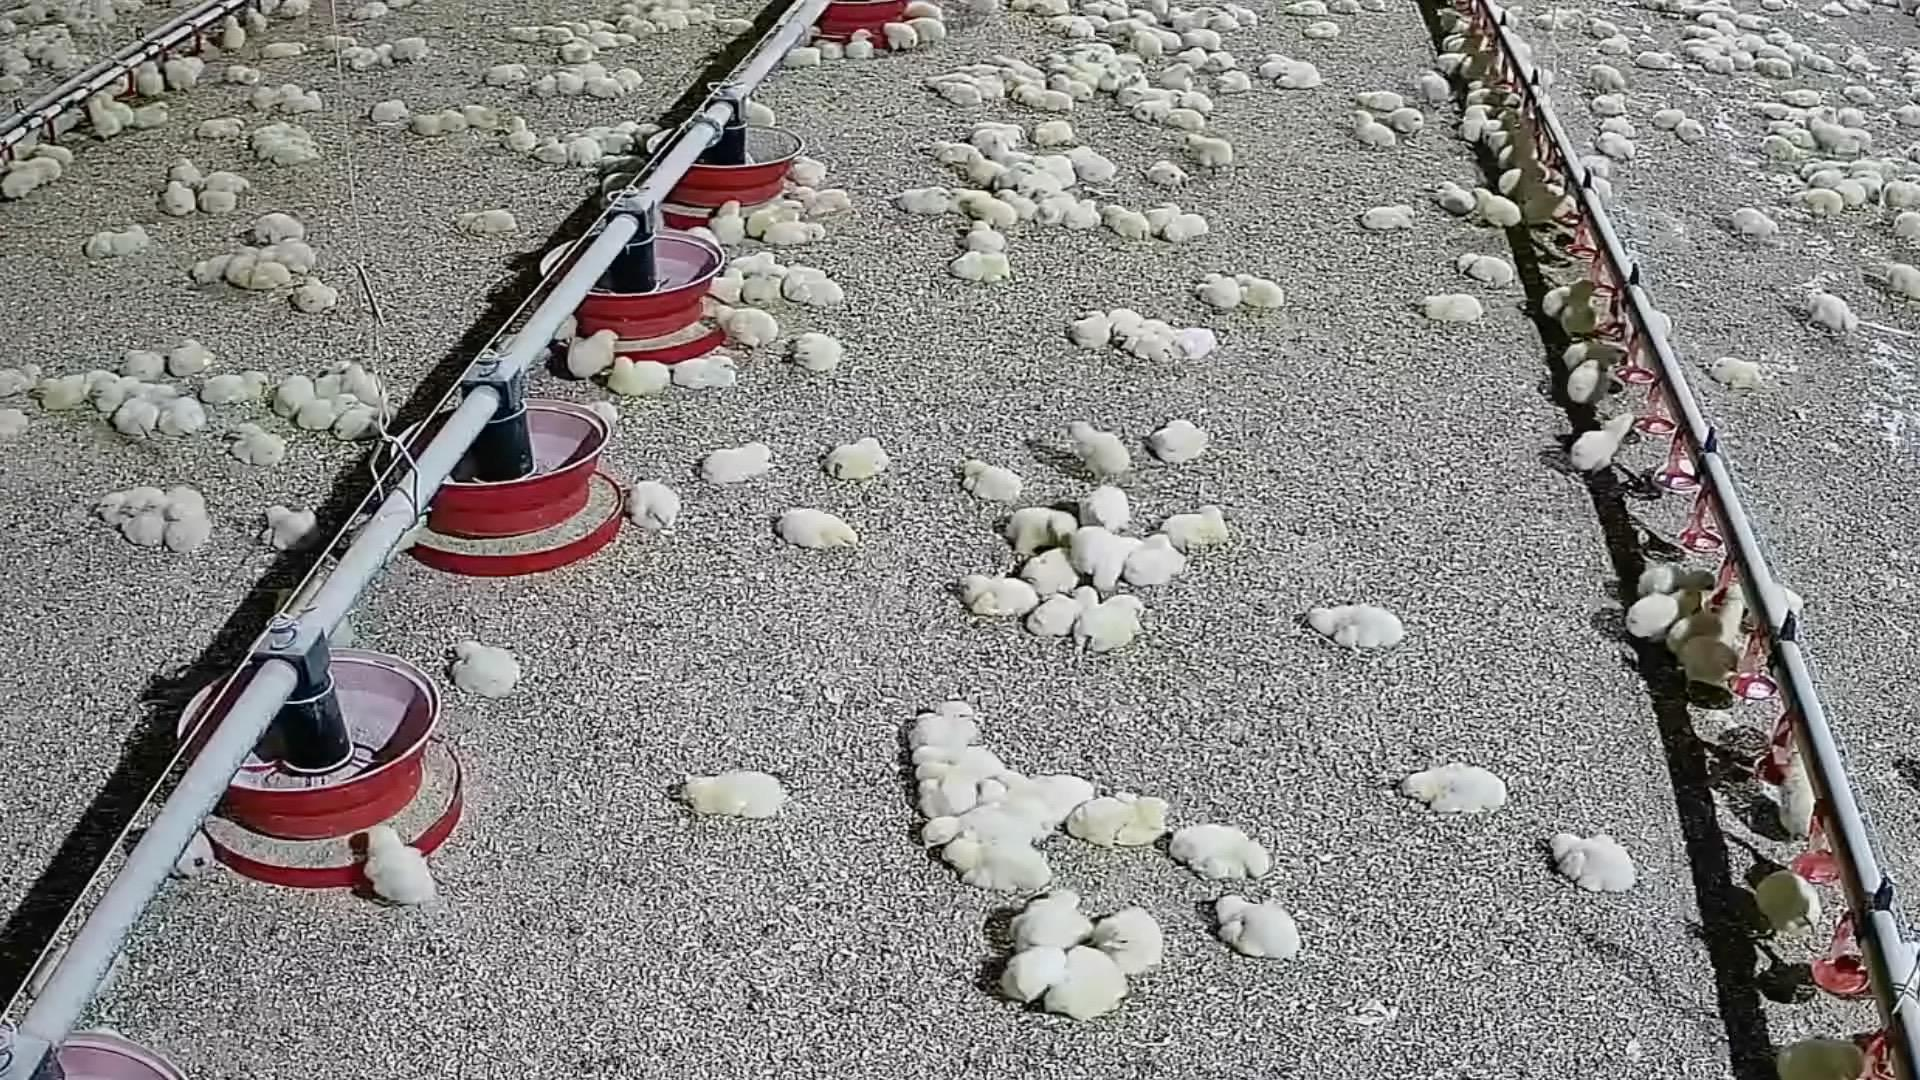poussin: (1009, 949, 1126, 1015), (1399, 762, 1509, 816), (364, 827, 436, 906), (986, 770, 1084, 828), (1212, 895, 1300, 959), (1175, 822, 1270, 880), (1551, 832, 1640, 891), (675, 769, 779, 819), (1760, 868, 1830, 939), (1064, 794, 1163, 844), (1010, 886, 1096, 943), (942, 847, 1047, 891), (1095, 903, 1163, 972), (1565, 406, 1638, 468), (1775, 742, 1818, 845), (919, 814, 1046, 848), (1304, 604, 1398, 650), (1075, 592, 1147, 651), (1771, 1035, 1865, 1080), (1063, 419, 1131, 479), (1677, 592, 1751, 646), (451, 640, 522, 691), (1018, 588, 1091, 638), (1626, 589, 1701, 636), (955, 578, 1039, 617), (901, 698, 975, 741), (1071, 526, 1127, 582), (1129, 538, 1188, 591), (1015, 547, 1083, 593), (781, 508, 856, 549), (700, 443, 771, 484), (1076, 481, 1130, 534), (820, 436, 890, 476), (167, 489, 211, 551), (914, 741, 1006, 770), (1006, 508, 1076, 546), (1160, 506, 1228, 546), (959, 459, 1023, 500), (626, 480, 680, 529), (334, 356, 389, 404), (1680, 646, 1742, 688), (1634, 564, 1720, 595), (202, 368, 272, 405), (156, 390, 207, 440), (786, 264, 852, 302), (1150, 421, 1211, 462), (338, 404, 400, 443), (608, 357, 670, 397), (903, 765, 984, 795), (117, 501, 171, 545), (949, 252, 1015, 287), (170, 828, 219, 876), (1569, 357, 1613, 410), (1567, 276, 1604, 338), (190, 248, 249, 286), (712, 306, 771, 344), (95, 491, 177, 518), (674, 356, 737, 392), (1804, 287, 1851, 335), (570, 328, 618, 375), (260, 509, 320, 546), (228, 425, 286, 463), (1560, 336, 1630, 368), (1495, 164, 1552, 202), (1188, 128, 1234, 174), (789, 334, 844, 372), (269, 373, 315, 418), (1455, 255, 1516, 287), (1415, 297, 1485, 324), (1527, 189, 1585, 222), (963, 190, 1007, 231), (301, 397, 356, 430), (94, 88, 141, 127), (170, 339, 219, 376), (963, 219, 1011, 256), (1017, 84, 1076, 115), (1234, 276, 1284, 311), (1734, 208, 1784, 244), (84, 371, 132, 407), (1100, 202, 1149, 237), (30, 378, 88, 407), (1357, 203, 1418, 231), (902, 12, 945, 50), (1346, 108, 1391, 145), (1712, 355, 1763, 386), (1478, 191, 1518, 232), (1068, 148, 1110, 186), (291, 277, 335, 314), (707, 199, 744, 243), (749, 199, 804, 228), (1486, 123, 1539, 153), (1067, 311, 1113, 345), (895, 187, 952, 215), (239, 264, 287, 295), (158, 58, 199, 95), (257, 241, 314, 268), (1029, 152, 1072, 186), (1494, 140, 1538, 174), (1143, 160, 1188, 193), (260, 141, 322, 165), (115, 352, 167, 380), (120, 397, 157, 436), (252, 215, 313, 239), (793, 187, 853, 211), (1197, 276, 1241, 309), (454, 208, 521, 229), (964, 154, 1001, 193), (564, 133, 603, 169), (7, 157, 67, 179), (1170, 330, 1220, 356), (1031, 116, 1075, 146), (1462, 83, 1516, 107), (45, 108, 82, 142), (1439, 175, 1473, 212), (1112, 306, 1149, 340), (128, 102, 171, 131), (0, 363, 44, 392), (87, 98, 119, 137), (1001, 187, 1033, 227), (745, 277, 786, 307), (1054, 75, 1095, 105), (1383, 108, 1424, 138), (762, 225, 824, 245), (732, 252, 783, 276), (936, 83, 982, 109), (880, 24, 918, 55), (136, 58, 166, 98), (1273, 70, 1329, 91), (1139, 24, 1187, 49), (1358, 88, 1408, 112), (1795, 190, 1842, 215), (1538, 282, 1573, 315), (977, 117, 1019, 145), (1142, 90, 1184, 117), (1759, 135, 1797, 165), (161, 179, 190, 219), (1141, 199, 1180, 228), (1418, 66, 1447, 105), (198, 171, 252, 193), (367, 99, 407, 127), (1131, 25, 1164, 59), (0, 409, 36, 440), (584, 76, 624, 104), (1073, 199, 1101, 239), (1033, 196, 1076, 222), (174, 47, 208, 79), (707, 274, 742, 305), (786, 156, 827, 182), (4, 170, 41, 199), (582, 400, 618, 429), (194, 193, 239, 216), (340, 47, 378, 75), (509, 116, 537, 154), (1182, 92, 1220, 120), (314, 369, 348, 400), (284, 90, 327, 113), (990, 166, 1034, 190), (1048, 16, 1092, 40), (931, 142, 980, 164), (222, 65, 262, 90), (593, 131, 634, 156), (1808, 120, 1845, 148), (222, 15, 245, 57), (33, 142, 75, 166), (1601, 117, 1648, 138), (257, 42, 311, 61), (1255, 55, 1305, 75), (593, 32, 640, 53), (1538, 5, 1584, 26), (785, 42, 825, 66), (1836, 181, 1867, 211), (1855, 171, 1884, 204), (1892, 264, 1920, 298), (120, 223, 146, 258), (1167, 215, 1207, 239), (1600, 132, 1639, 156), (244, 4, 272, 37), (818, 37, 851, 65), (848, 29, 876, 62), (194, 120, 247, 137), (621, 15, 655, 41), (537, 138, 567, 167), (167, 160, 204, 183), (738, 100, 775, 124), (1888, 102, 1920, 129), (1159, 65, 1192, 91), (601, 156, 647, 174), (1586, 61, 1622, 84), (90, 231, 117, 261), (560, 42, 603, 62), (1588, 92, 1630, 112), (393, 40, 430, 62), (248, 88, 282, 112), (1170, 112, 1211, 132), (1754, 61, 1795, 80), (1184, 28, 1220, 50), (1895, 211, 1920, 243), (1215, 74, 1254, 94), (1461, 50, 1494, 74), (1465, 120, 1498, 144), (1176, 8, 1213, 29), (1597, 40, 1634, 61), (1841, 0, 1878, 21), (638, 119, 666, 146), (1226, 3, 1257, 28), (1118, 87, 1159, 105), (715, 17, 758, 34), (1175, 46, 1208, 69), (1303, 22, 1345, 40), (1886, 183, 1920, 204), (535, 74, 559, 104), (981, 75, 1005, 105), (1287, 0, 1325, 18), (411, 115, 444, 136), (618, 69, 645, 95), (600, 177, 633, 198), (556, 70, 582, 98), (1808, 167, 1845, 186), (442, 108, 472, 131), (469, 105, 496, 131), (1634, 51, 1672, 69), (1753, 0, 1791, 17), (1821, 0, 1850, 22), (1589, 178, 1619, 199), (319, 30, 356, 47), (1782, 41, 1816, 59), (1679, 119, 1701, 146), (1462, 105, 1505, 120), (965, 0, 998, 18), (1208, 50, 1238, 70), (1846, 51, 1870, 76), (488, 70, 533, 83), (1437, 53, 1472, 70), (1654, 112, 1688, 129), (1785, 91, 1825, 105), (1797, 58, 1836, 73), (1850, 129, 1878, 149), (541, 26, 574, 42), (1842, 84, 1871, 102), (1791, 133, 1816, 152), (1727, 51, 1753, 70), (1702, 59, 1734, 74), (1735, 36, 1764, 51), (1584, 160, 1615, 173), (1592, 15, 1613, 32), (1360, 0, 1390, 12), (1327, 0, 1360, 11), (1768, 123, 1797, 135), (1770, 29, 1788, 44)
